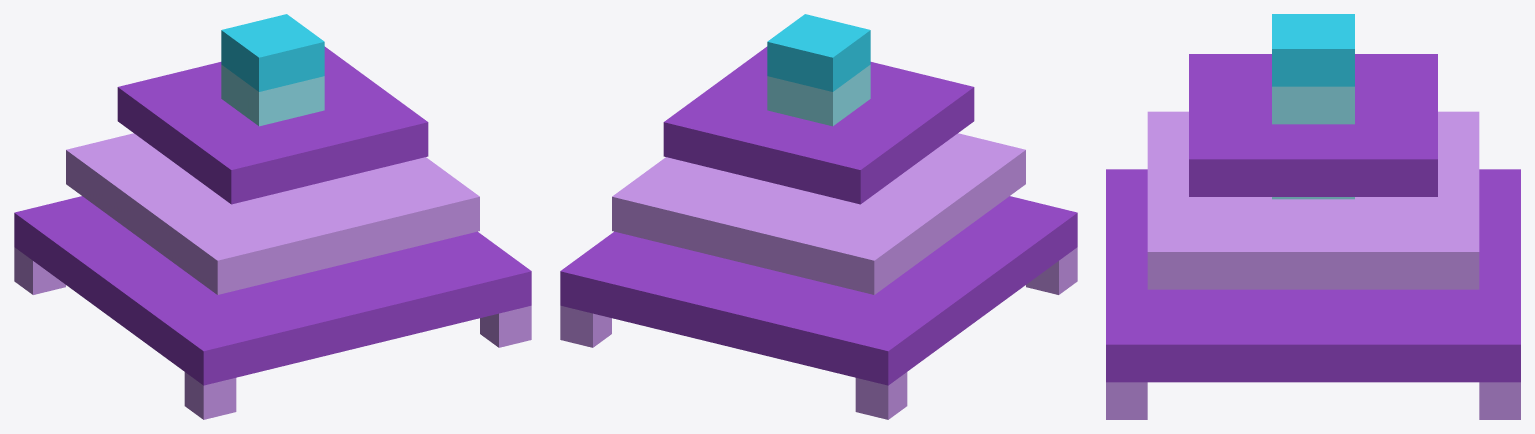
The model's file is fx_teleport.glb.
3 views of the same model, side by side, from view 1: azimuth 30°, elevation 25°; view 2: azimuth 150°, elevation 25°; view 3: azimuth 270°, elevation 25° (orthographic). The views are drawn at different scales.
Visible parts, largest first — view 1: Ring mesh, Peak mesh, Node mesh, Column mesh; view 2: Ring mesh, Peak mesh, Node mesh, Column mesh; view 3: Ring mesh, Peak mesh, Column mesh, Node mesh.
Part boxes in pixels (x1,y1,x2,y2): Ring mesh: (14, 46, 531, 385); Peak mesh: (221, 14, 324, 91); Node mesh: (14, 247, 531, 419); Column mesh: (221, 64, 324, 126); Ring mesh: (560, 46, 1077, 385); Peak mesh: (767, 14, 870, 91); Node mesh: (560, 247, 1077, 419); Column mesh: (767, 64, 870, 126); Ring mesh: (1106, 54, 1520, 382); Peak mesh: (1272, 14, 1354, 86); Column mesh: (1272, 86, 1354, 199); Node mesh: (1106, 382, 1520, 419).
Bounding box in the file's own units: 10 × 8 × 10.
Materials: 1 (1 with a texture image).
